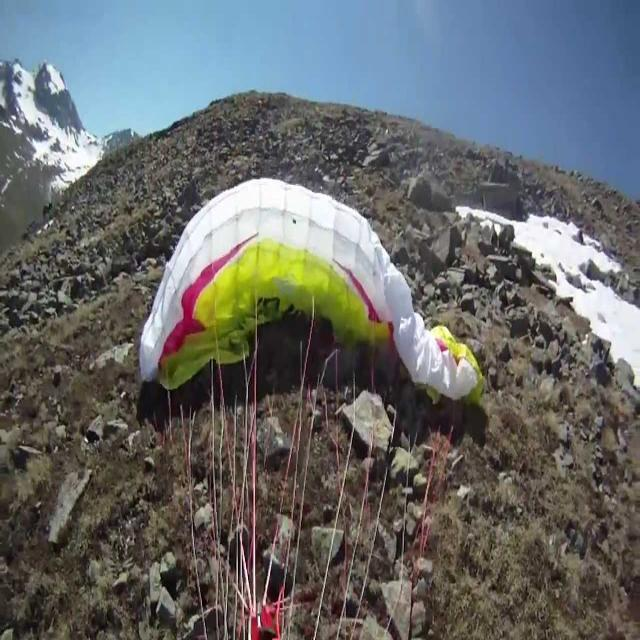paraglider: (134, 171, 488, 422)
